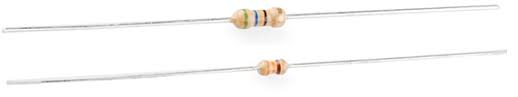resistor: (239, 53, 320, 94), (221, 2, 296, 42)
